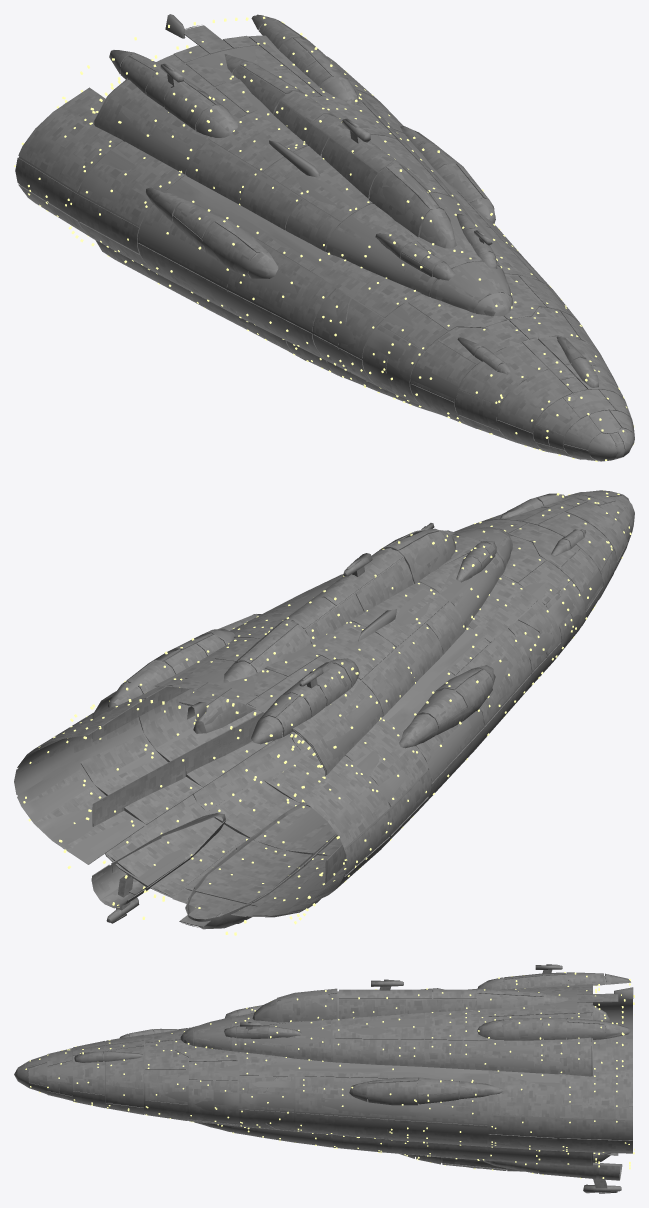
Rendered from capital_part1.glb.
3 views of the same model, one above another, from view 1: azimuth 30°, elevation 25°; view 2: azimuth 150°, elevation 25°; view 3: azimuth 270°, elevation 25° (orthographic). The views are drawn at different scales.
Parts seen in each view (by area): view 1: Engines_1; view 2: Engines_1; view 3: Engines_1.
Part boxes in pixels (<box>): Engines_1: <box>14,14,634,461</box>; Engines_1: <box>14,490,634,935</box>; Engines_1: <box>14,964,634,1193</box>.
Bounding box in the file's own units: 245 × 189 × 563.
Materials: 2 (1 with a texture image).
